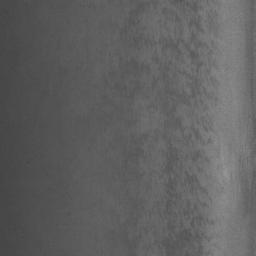Silk spot: (112, 0, 219, 256)
